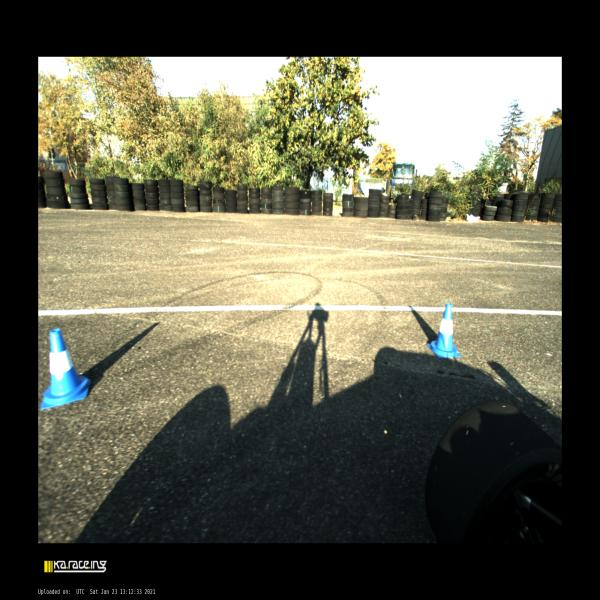blue_cone: (40, 328, 90, 409), (426, 303, 462, 357)
